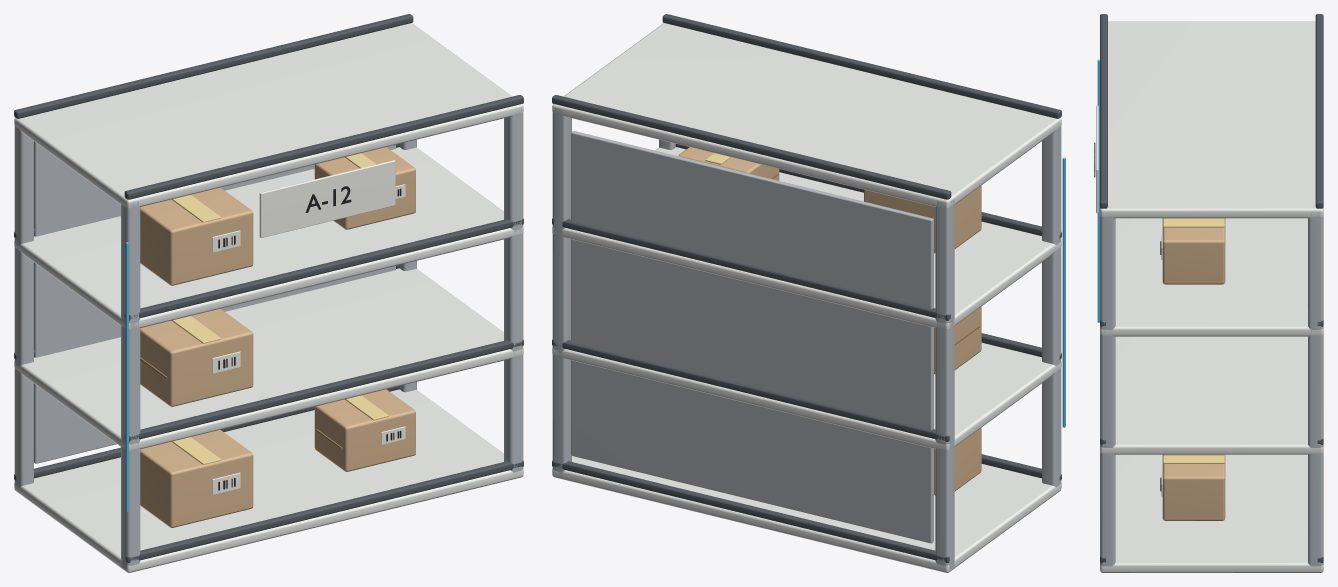
File: shelf-small.glb
3 renders of one model, left to right at view 1: azimuth 30°, elevation 25°; view 2: azimuth 150°, elevation 25°; view 3: azimuth 270°, elevation 25°, orthographic. The views are drawn at different scales.
Visible parts, largest first — view 1: laminated shelf deck.003, laminated shelf deck.001, laminated shelf deck, laminated shelf deck.002, rear perforated backing, shelf parcel 0a carton, shelf parcel 2a carton, shelf parcel 1a carton, rounded upright post.002, rounded upright post.001, rounded upright post, aisle label plate (+12 smaller); view 2: rear perforated backing, laminated shelf deck.003, laminated shelf deck, laminated shelf deck.002, laminated shelf deck.001, rounded upright post.001, rounded upright post, rounded upright post.003, front safety rail.003, rear safety rail.003, rear safety rail, rear safety rail.001 (+9 smaller); view 3: laminated shelf deck.003, laminated shelf deck.001, laminated shelf deck.002, laminated shelf deck, rounded upright post.003, rounded upright post.002, shelf parcel 2b carton, shelf parcel 0b carton, rear safety rail.003, front safety rail.003, colored aisle strip, shelf parcel 2b tape top (+2 smaller).
Part boxes in pixels (x1=…): laminated shelf deck.003: x1=14, y1=23, x2=523, y2=208; laminated shelf deck.001: x1=14, y1=268, x2=523, y2=450; laminated shelf deck: x1=14, y1=389, x2=523, y2=572; laminated shelf deck.002: x1=14, y1=147, x2=523, y2=329; rear perforated backing: x1=34, y1=141, x2=395, y2=463; shelf parcel 0a carton: x1=140, y1=430, x2=253, y2=527; shelf parcel 2a carton: x1=140, y1=187, x2=253, y2=285; shelf parcel 1a carton: x1=140, y1=308, x2=253, y2=406; rounded upright post.002: x1=504, y1=108, x2=523, y2=473; rounded upright post.001: x1=14, y1=126, x2=33, y2=487; rounded upright post: x1=121, y1=201, x2=140, y2=569; aisle label plate: x1=259, y1=160, x2=395, y2=237; rear perforated backing: x1=571, y1=131, x2=933, y2=543; laminated shelf deck.003: x1=552, y1=23, x2=1061, y2=208; laminated shelf deck: x1=552, y1=456, x2=1061, y2=572; laminated shelf deck.002: x1=552, y1=147, x2=1061, y2=329; laminated shelf deck.001: x1=552, y1=343, x2=1061, y2=450; rounded upright post.001: x1=935, y1=199, x2=954, y2=569; rounded upright post: x1=1042, y1=126, x2=1061, y2=487; rounded upright post.003: x1=552, y1=107, x2=571, y2=476; front safety rail.003: x1=662, y1=14, x2=1061, y2=118; rear safety rail.003: x1=552, y1=95, x2=951, y2=199; rear safety rail: x1=552, y1=460, x2=949, y2=562; rear safety rail.001: x1=552, y1=339, x2=950, y2=441; laminated shelf deck.003: x1=1100, y1=21, x2=1323, y2=218; laminated shelf deck.001: x1=1100, y1=336, x2=1323, y2=454; laminated shelf deck.002: x1=1100, y1=218, x2=1323, y2=336; laminated shelf deck: x1=1100, y1=454, x2=1323, y2=572; rounded upright post.003: x1=1308, y1=212, x2=1323, y2=571; rounded upright post.002: x1=1100, y1=207, x2=1115, y2=566; shelf parcel 2b carton: x1=1162, y1=218, x2=1225, y2=284; shelf parcel 0b carton: x1=1162, y1=454, x2=1225, y2=520; rear safety rail.003: x1=1315, y1=14, x2=1323, y2=208; front safety rail.003: x1=1100, y1=14, x2=1107, y2=208; colored aisle strip: x1=1097, y1=59, x2=1099, y2=322; shelf parcel 2b tape top: x1=1163, y1=218, x2=1224, y2=227.
Size of the model in its own units: 2.01 by 1.83 by 1.03.
